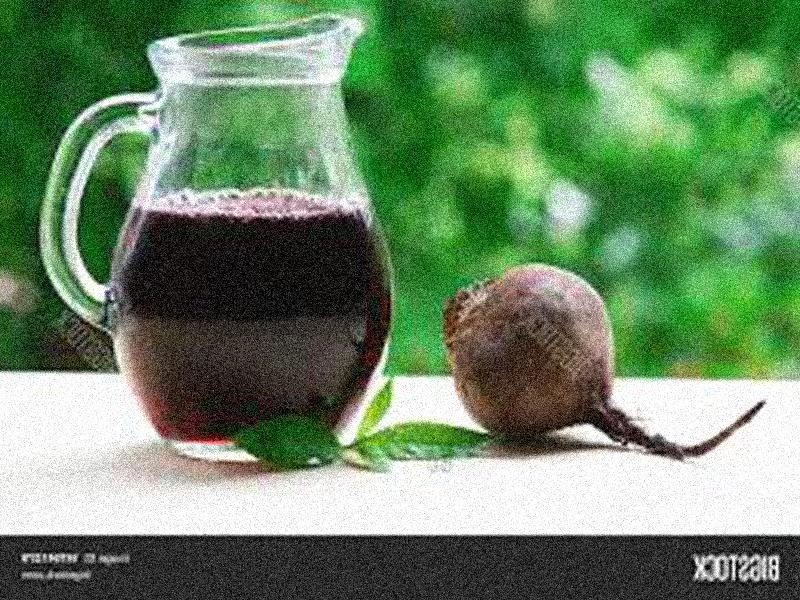Beet: (445, 266, 762, 461)
